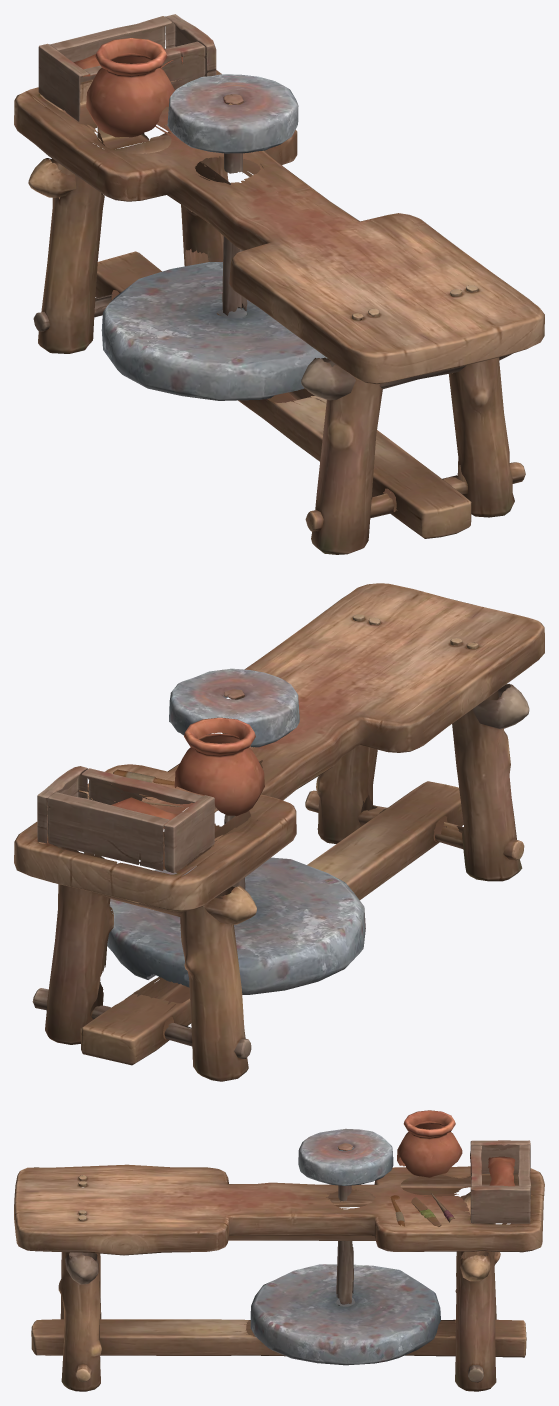
The picture shows the model from 3 angles, top to bottom: view 1: azimuth 30°, elevation 25°; view 2: azimuth 150°, elevation 25°; view 3: azimuth 270°, elevation 25°; orthographic projection. The views are drawn at different scales.
Visible parts, largest first — view 1: SM_Pottery_Wheel_01_LOD0; view 2: SM_Pottery_Wheel_01_LOD0; view 3: SM_Pottery_Wheel_01_LOD0.
Boxes of the visible parts, x1,y1,x2,y2 form: SM_Pottery_Wheel_01_LOD0: (14,14,544,554); SM_Pottery_Wheel_01_LOD0: (14,583,544,1081); SM_Pottery_Wheel_01_LOD0: (14,1110,544,1391).
Bounding box in the file's own units: 0.6868 × 0.8883 × 1.91.
1 material, 1 textured.
